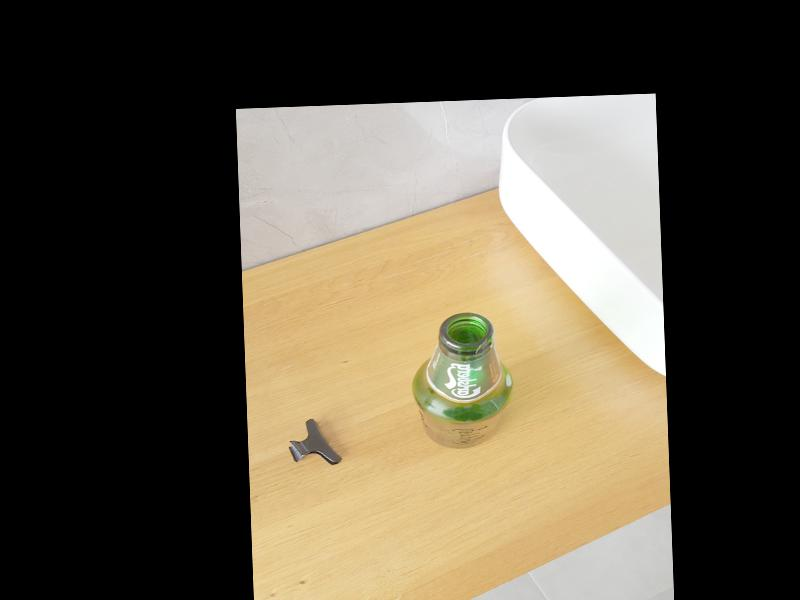Beer: (409, 312, 516, 450)
